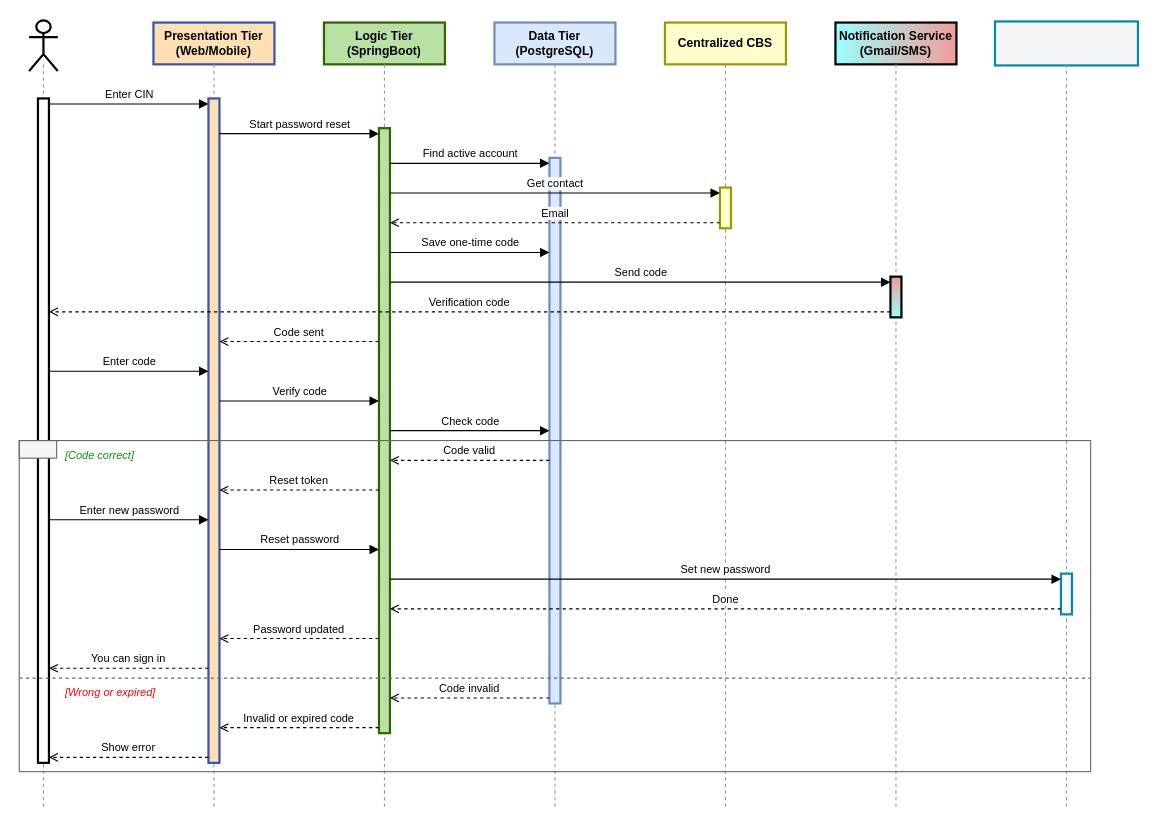
Some shapes in this 1158 by 828 pixel diagram are drawn without their labels. The shapes that lost their labels are listed below. From the top down, each one's box as (x1, y1, x2, y2) in pixels, then its label:
(28, 19, 58, 72): Client
(993, 20, 1138, 66): Authentication Server (Keycloak)
(18, 439, 57, 458): alt
